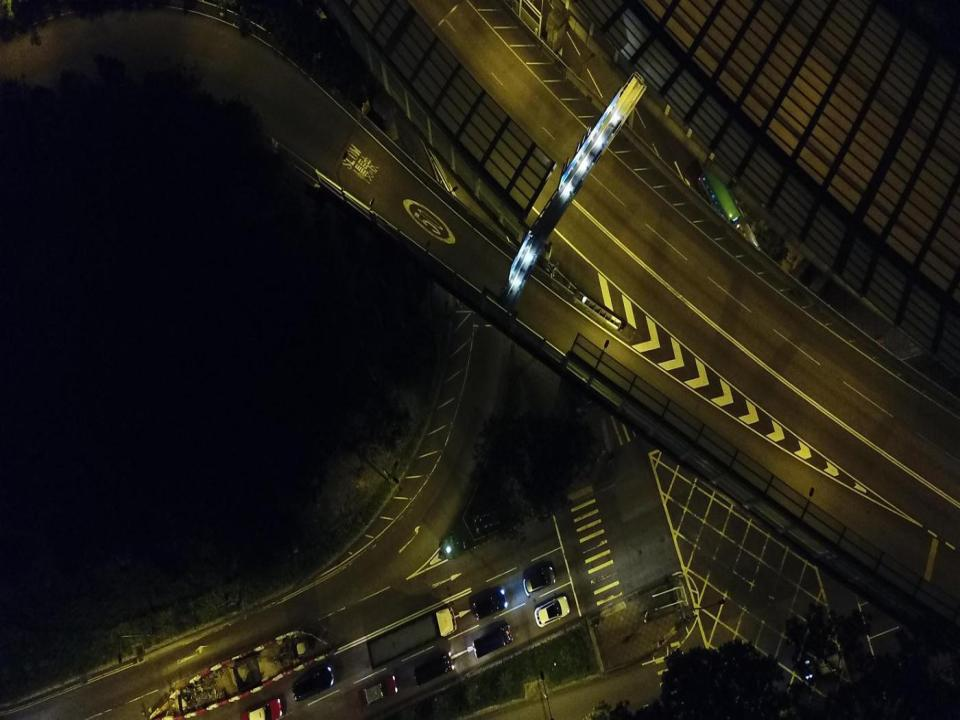bus: (696, 167, 741, 234)
car: (292, 665, 334, 702), (358, 674, 398, 708), (472, 586, 508, 620), (534, 595, 571, 627), (240, 697, 283, 719), (525, 565, 556, 593)
truck: (366, 605, 458, 670), (472, 623, 513, 659)
van: (412, 651, 454, 687)
